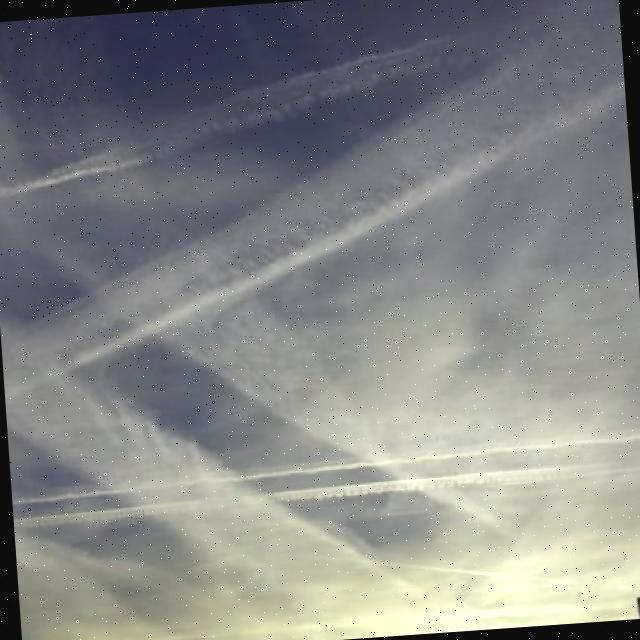Ct: (1, 1, 640, 536)
